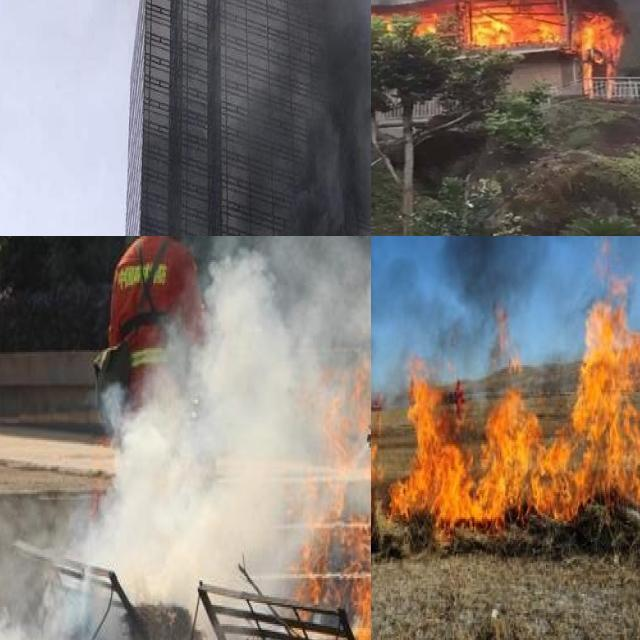fire: (371, 303, 640, 540), (303, 325, 371, 640), (373, 0, 631, 68)
smoke: (0, 236, 371, 640), (225, 0, 371, 236), (371, 236, 640, 321)
